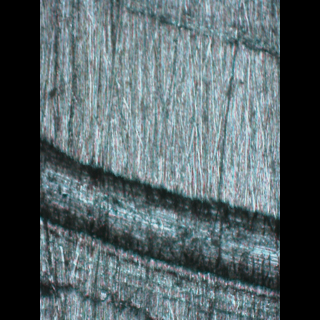d: (39, 127, 279, 320)
